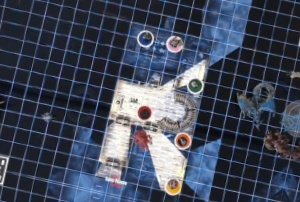blue: (133, 26, 156, 50)
green: (183, 74, 204, 95)
orange: (170, 126, 195, 152)
pink: (163, 31, 186, 53)
red: (133, 101, 155, 121)
yellow: (159, 172, 185, 200)
